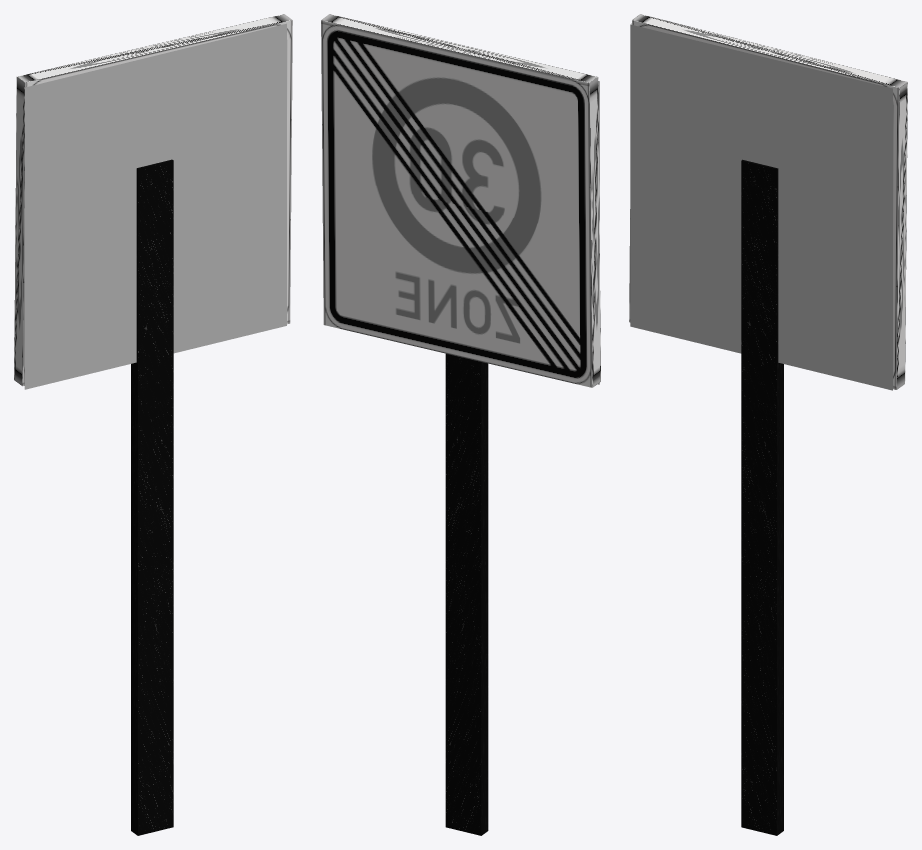
The model's file is CancelSpeedLimit.obj.
The picture shows the model from 3 angles, left to right: view 1: azimuth 30°, elevation 25°; view 2: azimuth 150°, elevation 25°; view 3: azimuth 330°, elevation 25°; orthographic projection.
Parts seen in each view (by area): view 1: Plane, STOPALLM_1, Cube_Cube.001; view 2: Cube_Cube.001, STOPALLM_1; view 3: Plane, STOPALLM_1, Cube_Cube.001.
Part boxes in pixels (x1,y1,x2,y2): Plane: (24,23,286,389); STOPALLM_1: (131,159,173,835); Cube_Cube.001: (14,14,292,386); Cube_Cube.001: (321,14,600,387); STOPALLM_1: (445,353,488,835); Plane: (630,24,892,390); STOPALLM_1: (741,159,783,835); Cube_Cube.001: (629,14,907,389).
Size of the model in its own units: 4.12 by 11.34 by 0.2659.
Materials: 3 (2 with a texture image).
